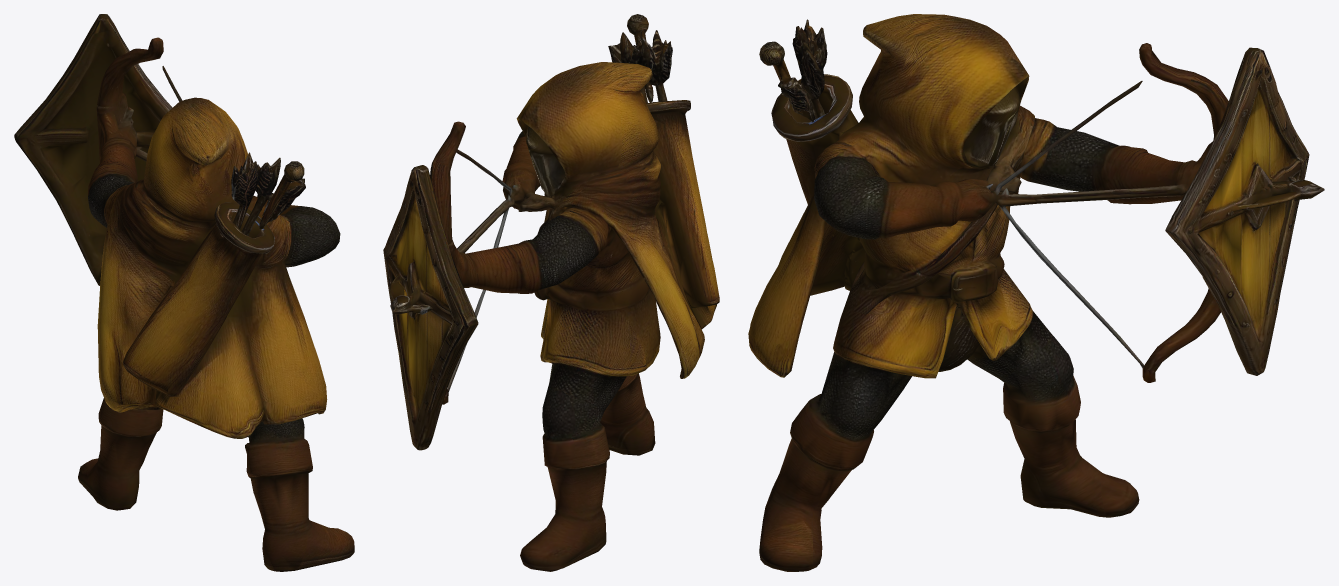
3 views of the same model, side by side, from view 1: azimuth 30°, elevation 25°; view 2: azimuth 150°, elevation 25°; view 3: azimuth 270°, elevation 25° (orthographic). The views are drawn at different scales.
Visible parts, largest first — view 1: tripo_node_b6dc88d7-e82c-403f-92e4-85e8d27010f9; view 2: tripo_node_b6dc88d7-e82c-403f-92e4-85e8d27010f9; view 3: tripo_node_b6dc88d7-e82c-403f-92e4-85e8d27010f9.
Part boxes in pixels (x1,y1,x2,y2): tripo_node_b6dc88d7-e82c-403f-92e4-85e8d27010f9: [14, 14, 354, 571]; tripo_node_b6dc88d7-e82c-403f-92e4-85e8d27010f9: [383, 14, 719, 571]; tripo_node_b6dc88d7-e82c-403f-92e4-85e8d27010f9: [748, 14, 1324, 571].
Bounding box in the file's own units: 0.4819 × 0.9663 × 0.9995.
Materials: 1 (1 with a texture image).
